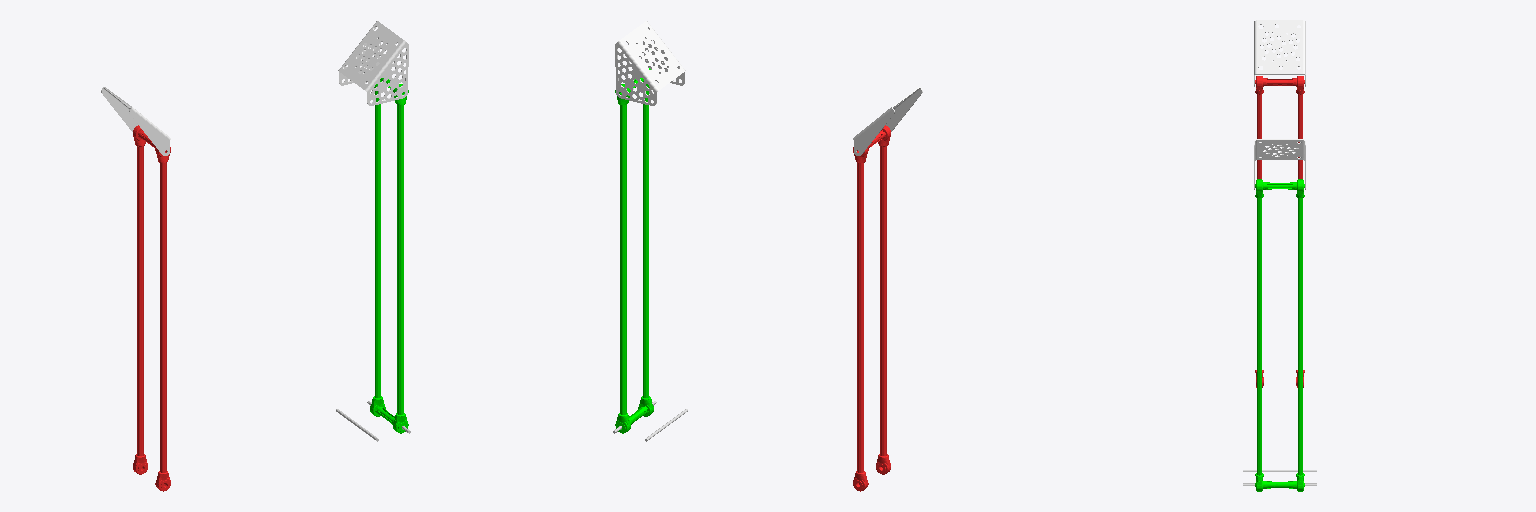
The robot description file, URDF, robot "delta_robot":
<?xml version="1.0"?>
<robot name="delta_robot">

    <!-- RAILS -->
    <link name="rails_link">

        <visual>
            <origin xyz="0 0 0"/>
            <geometry>
                <mesh filename="../meshes/rails.stl"/>
            </geometry>
            <material name="gray">
              <color rgba="0.8 0.8 0.8 1"/>
            </material>
        </visual>
        <collision>
            <origin xyz="0 0 9" rpy="0 0 0"/>
            <geometry>
                <mesh filename="../meshes/rails_collision.stl" scale="0.9 1.5 0.9"/>
            </geometry>
        </collision>
    </link>
    <!-- RAILS END-->

    <!-- END EFFECTOR -->
    <link name="end_effector_link">
        <visual>
            <origin xyz="0 0 0"/>
            <geometry>
                <mesh filename="../meshes/end_effector.stl"/>
            </geometry>
            <material name="gray">
              <color rgba="0.8 0.8 0.8 1"/>
            </material>
        </visual>
    </link>

    <!-- <joint name="end_effector_joint" type="revolute">
        <origin xyz="0 0. -450" rpy="0 0 0"/>
        <parent link="rod_1_link"/>
        <child link="end_effector_link"/>
        <axis xyz="0 1 0"/>
        <limit lower="60" upper="350" velocity="0" effort="0"/> 
    </joint> -->
    <!-- END EFFECTOR END-->



    <!-- CARRIAGE 1 -->
    <link name="carriage_1_link">

        <visual>
            <origin xyz="0. 0. 0."/>
            <geometry>
                <mesh filename="../meshes/carriage_1.stl"/>
            </geometry>
            <material name="white">
              <color rgba="1. 1. 1. 1."/>
            </material>
        </visual>

    </link>

    <joint name="carriage_1_joint" type="prismatic">
        <origin xyz="0. 0. 0." rpy="0 0 0"/>
        <parent link="rails_link"/>
        <child link="carriage_1_link"/>
        <axis xyz="-1 0 1"/>
        <limit lower="60" upper="350" velocity="0" effort="0"/> 
    </joint>
    <!-- CARRIAGE 1 END-->

    <!-- ROD 1 -->
    <link name="rod_1_link">

        <visual>
            <origin xyz="0 0 0" rpy="0 0 0"/>
            <geometry>
                <mesh filename="../meshes/link_1.stl"/>
            </geometry>
            <material name="red">
              <color rgba="1. 0.2 0.2 1."/>
            </material>
        </visual>
        <collision>
            <origin xyz="0 0 0" rpy="0 0 0"/>
            <geometry>
                <mesh filename="../meshes/link_1.stl"/>
            </geometry>
        </collision>

    </link>

    <joint name="rod_1_joint" type="revolute">
        <origin xyz="0. 0. 0." rpy="0 0 0"/>
        <parent link="carriage_1_link"/>
        <child link="rod_1_link"/>
        <axis xyz="0 -1 0"/>
        <limit lower="0" upper="6.28" velocity="0" effort="0"/> 
    </joint>

    <!-- <link name="rod_1_end-effector_link">
        <visual>
            <origin xyz="0 0 0" rpy="0 0 0"/>
            <geometry>
                <mesh filename="../meshes/end-effector_joint.stl"/>
            </geometry>
            <material name="dark_grey">
                <color rgba="0.9 0.9 0.9 1"/>
            </material>
        </visual>
    </link> -->

    <joint name="rod_1_end-effector_joint" type="revolute">
        <origin xyz="0 0 -450"/>
        <parent link="rod_1_link"/>
        <child link="end_effector_link"/>
        <axis xyz="0 1 0"/>
        <limit lower="0" upper="6.28" velocity="0" effort="0"/>
    </joint>
    <!-- ROD 1 END-->




    <!-- CARRIAGE 2 -->
    <link name="carriage_2_link">

        <visual>
            <origin xyz="0. 0. 0."/>
            <geometry>
                <mesh filename="../meshes/carriage_2.stl"/>
            </geometry>
            <material name="white">
              <color rgba="1. 1. 1. 1."/>
            </material>
        </visual>

    </link>

    <joint name="carriage_2_joint" type="prismatic">
        <origin xyz="0. 0. 0." rpy="0 0 0"/>
        <parent link="rails_link"/>
        <child link="carriage_2_link"/>
        <axis xyz="1 0 1"/>
        <limit lower="60" upper="350" velocity="0" effort="0"/> 
    </joint>
    <!-- CARRIAGE 2 END-->

    <!-- ROD 2 -->
    <link name="rod_2_link">

        <visual>
            <origin xyz="0 0 0" rpy="0 0 0"/>
            <geometry>
                <mesh filename="../meshes/link_2.stl"/>
            </geometry>
            <material name="green">
              <color rgba="0 1 0 1"/>
            </material>
        </visual>
        <collision>
            <origin xyz="0 0 0" rpy="0 0 0"/>
            <geometry>
                <mesh filename="../meshes/link_2.stl"/>
            </geometry>
        </collision>

    </link>

    <joint name="rod_2_joint" type="revolute">
        <origin xyz="0 0 0" rpy="0 0 0"/>
        <parent link="carriage_2_link"/>
        <child link="rod_2_link"/>
        <axis xyz="0 1 0"/>
        <limit lower="0" upper="6.28" velocity="0" effort="0"/> 
    </joint>

    <link name="rod_2_end-effector_link">
        <visual>
            <origin xyz="0 0 0" rpy="0 0 0"/>
            <geometry>
                <mesh filename="../meshes/end-effector_joint.stl"/>
            </geometry>
            <material name="dark_grey">
                <color rgba="0.9 0.9 0.9 1"/>
            </material>
        </visual>
    
    </link>

    <joint name="rod_2_end-effector_joint" type="fixed">
        <origin xyz="0 0 -450"/>
        <parent link="rod_2_link"/>
        <child link="rod_2_end-effector_link"/>
    </joint>
    <!-- ROD 2 END-->


    <!-- ROD 3 -->
    <link name="rod_3_link">
        <visual>
            <origin xyz="0 0 0" rpy="0 0 0"/>
            <geometry>
                <mesh filename="../meshes/link_1_c2.stl"/>
            </geometry>
            <material name="green">
              <color rgba="0 1 0 1"/>
            </material>
        </visual>
    </link>

    <joint name="rod_3_joint" type="revolute">
        <origin xyz="45 0 0" rpy="0 0 0"/>
        <parent link="carriage_2_link"/>
        <child link="rod_3_link"/>
        <axis xyz="0 1 0"/>
        <limit lower="0" upper="6.28" velocity="0" effort="0"/> 
    </joint>

    <link name="rod_3_end-effector_link">
        <visual>
            <origin xyz="0 0 0" rpy="0 0 0"/>
            <geometry>
                <mesh filename="../meshes/end-effector_joint.stl"/>
            </geometry>
            <material name="dark_grey">
                <color rgba="0.9 0.9 0.9 1"/>
            </material>
        </visual>
    
    </link>

    <joint name="rod_3_end-effector_joint" type="fixed">
        <origin xyz="0 0 -450"/>
        <parent link="rod_3_link"/>
        <child link="rod_3_end-effector_link"/>
    </joint>
    <!-- ROD 3 END-->

</robot>

--- What the picture shows (computed from the rendered views, not written in the file) ---
Views: 3 orthographic renders of the robot side by side, from view 1: azimuth 30°, elevation 25°; view 2: azimuth 150°, elevation 25°; view 3: azimuth 270°, elevation 25°.
Robot: delta_robot — 9 links, 8 joints (4 revolute, 2 prismatic, 2 fixed); root link rails_link; default pose: joints at zero except 2 at the middle of their limits (carriage_1_joint = 205, carriage_2_joint = 205).
Links seen in each view (by area): view 1: rod_1_link, rod_3_link, carriage_2_link, carriage_1_link; view 2: rod_1_link, rod_3_link, carriage_2_link, carriage_1_link; view 3: rod_3_link, carriage_1_link, rod_1_link, carriage_2_link.
Boxes of the visible links, left/top/right/bottom form: rod_1_link: left=133, top=125, right=170, bottom=491; rod_3_link: left=370, top=78, right=408, bottom=433; carriage_2_link: left=338, top=21, right=408, bottom=105; carriage_1_link: left=101, top=87, right=170, bottom=155; rod_1_link: left=853, top=125, right=890, bottom=491; rod_3_link: left=615, top=68, right=653, bottom=433; carriage_2_link: left=615, top=21, right=685, bottom=105; carriage_1_link: left=853, top=87, right=922, bottom=155; rod_3_link: left=1255, top=179, right=1304, bottom=491; carriage_1_link: left=1254, top=20, right=1305, bottom=86; rod_1_link: left=1255, top=76, right=1304, bottom=387; carriage_2_link: left=1254, top=139, right=1305, bottom=189.
Bounding box of the posed robot: 396 × 100 × 530 m (x, y, z).
Meshes: 8 distinct files referenced, 6 mesh visuals loaded (5 binary STL); not drawn: 3 (reference not matched to a file when rendering).
